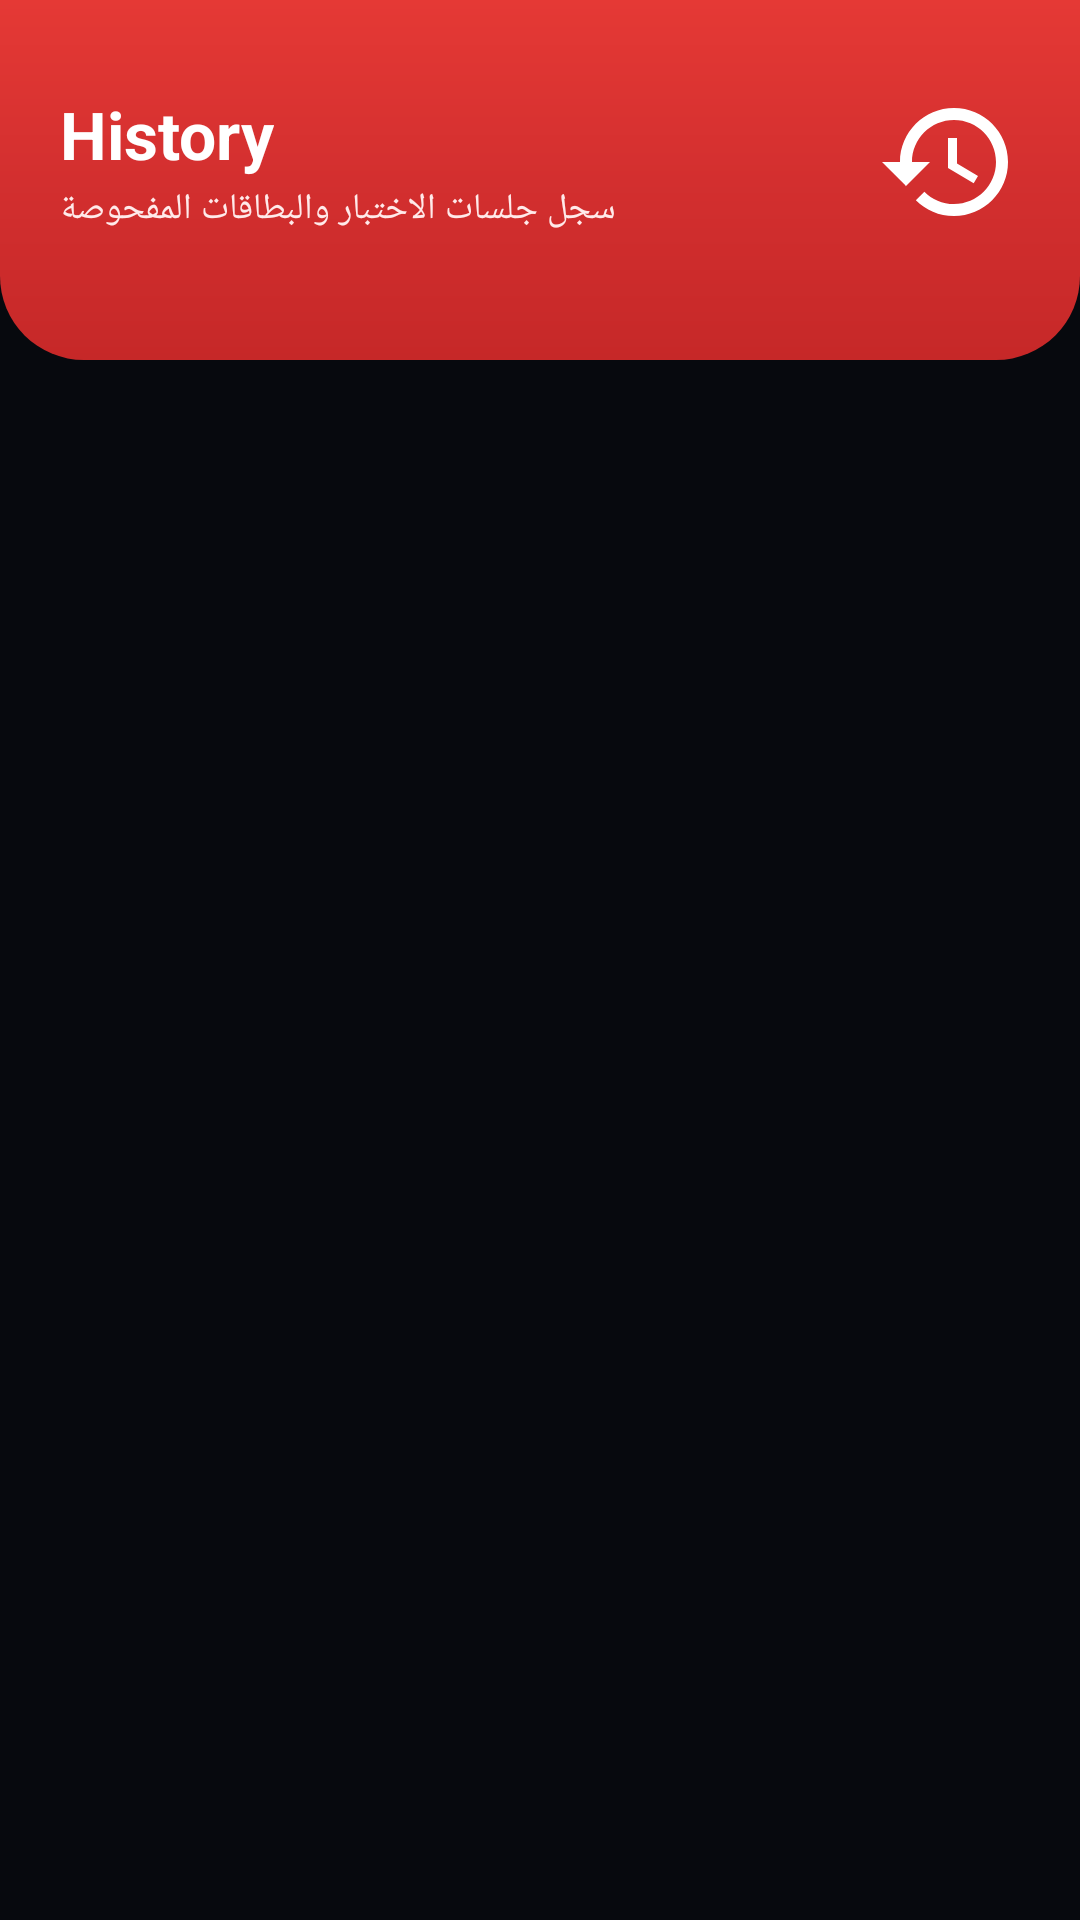

Icons on this 1080px×1920px Android screen, each with its box as (x1, y1, x2, y2):
history: (882, 108, 1008, 216)
